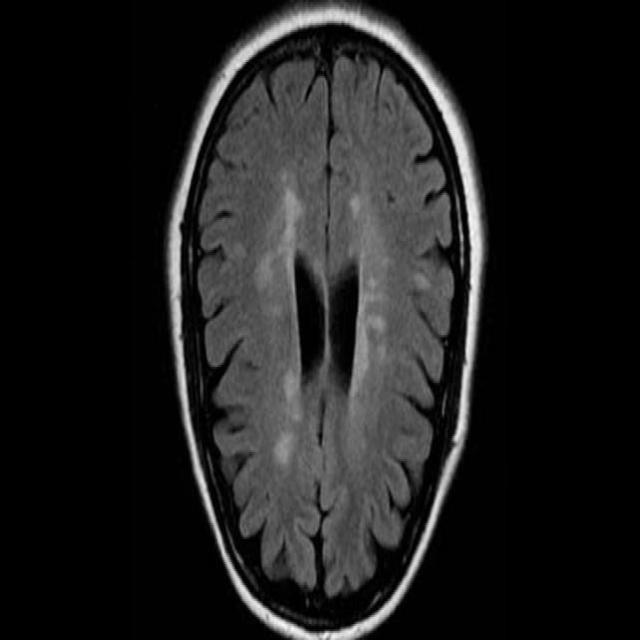notumor: (166, 0, 484, 638)
